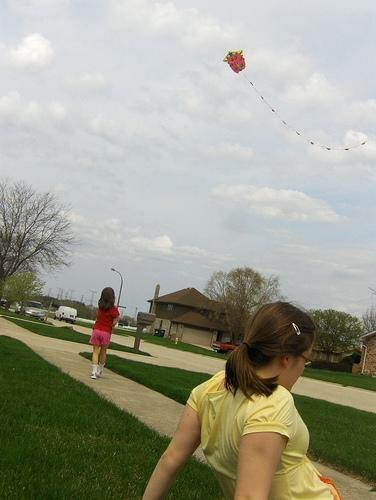car: (24, 302, 45, 322), (54, 306, 77, 322)
